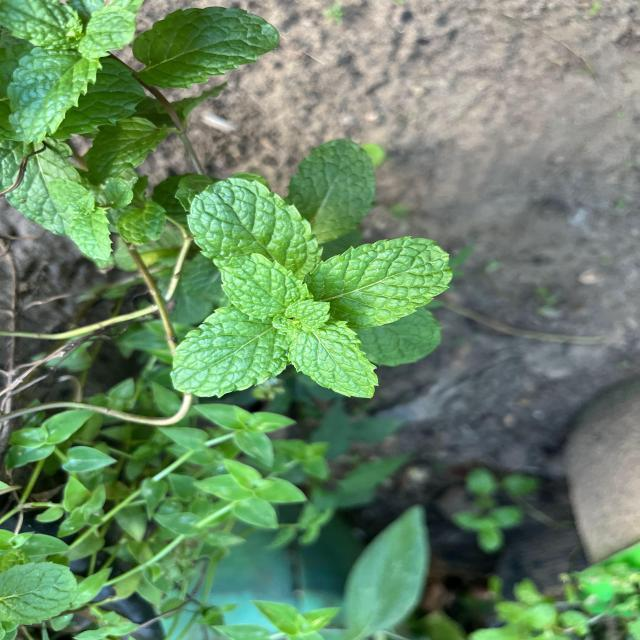Mentha spicata: (304, 234, 453, 332), (187, 176, 325, 267), (168, 304, 288, 399), (287, 319, 381, 399), (220, 250, 316, 320)
